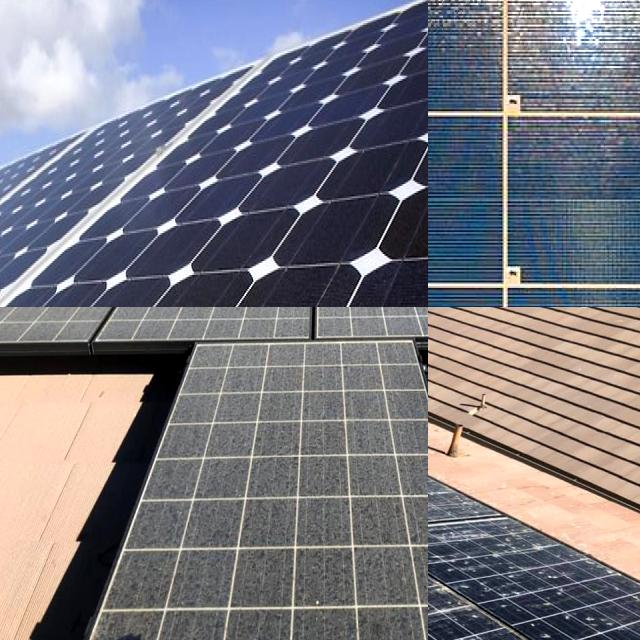bird: (428, 424, 520, 496), (428, 545, 480, 640), (543, 585, 622, 640), (428, 550, 513, 597)
crack: (0, 0, 428, 307)
dust: (262, 498, 410, 640), (315, 350, 428, 497), (136, 538, 254, 640), (194, 348, 297, 460), (176, 307, 298, 355), (336, 307, 428, 358), (21, 307, 94, 359), (266, 307, 369, 335), (158, 307, 242, 331), (194, 502, 238, 542), (54, 307, 100, 329)
shadow: (496, 0, 640, 131), (428, 0, 563, 52)
